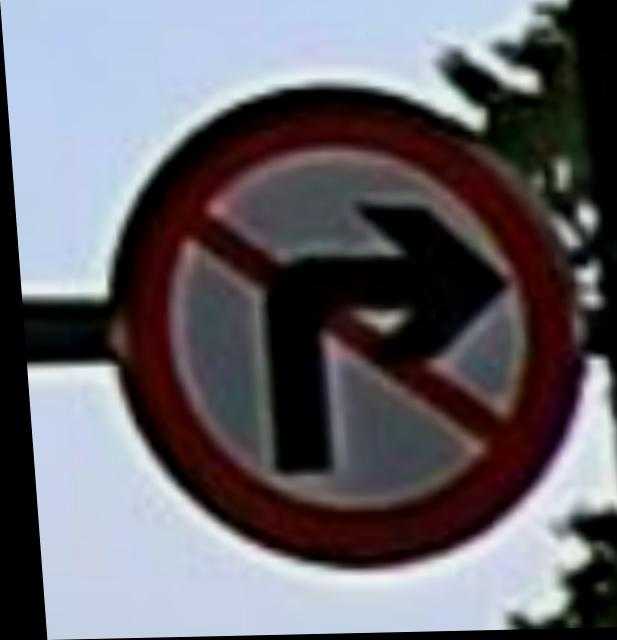not_turn_right: (98, 75, 584, 571)
